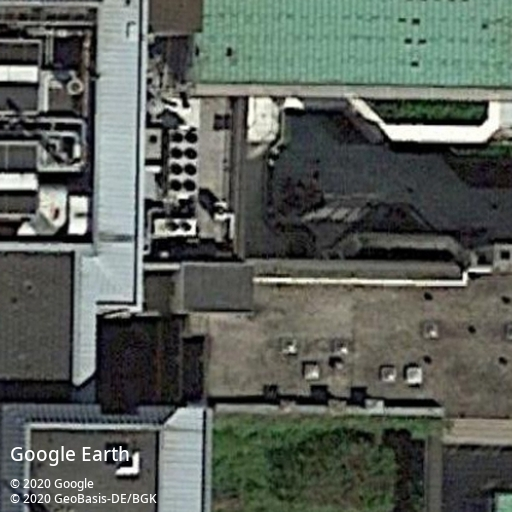Chiller: (166, 128, 201, 202), (152, 217, 198, 238)
